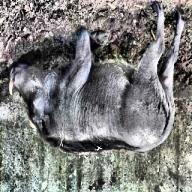boar: (8, 1, 184, 155)
